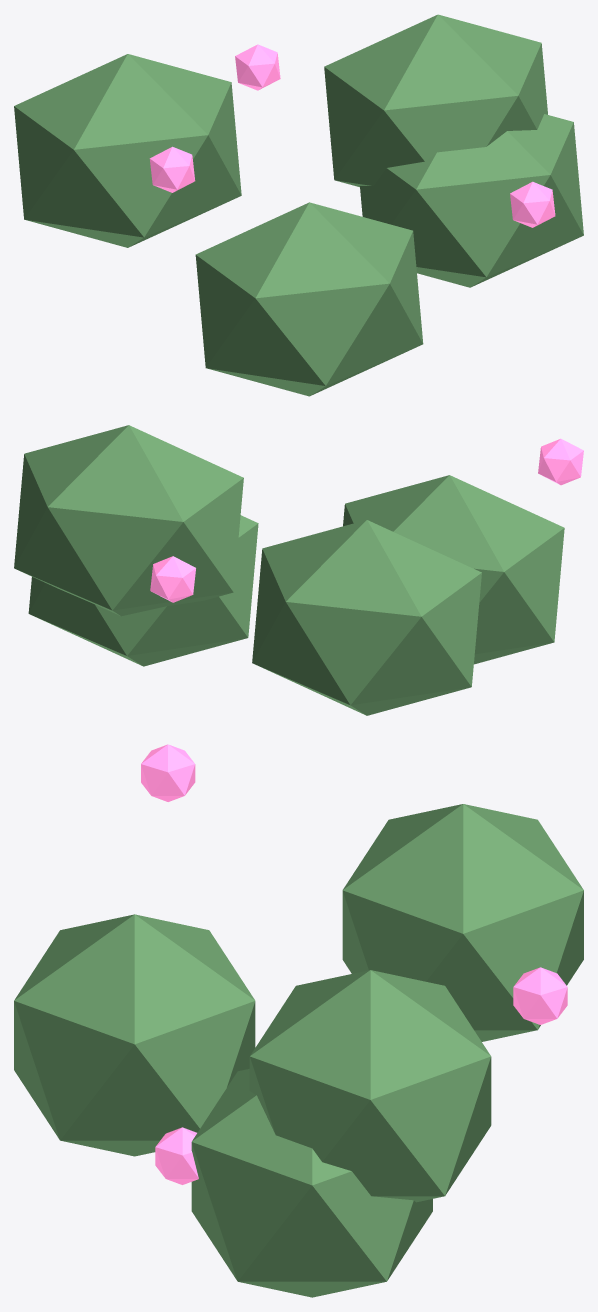
The model's file is greenmere_berry_thicket.lod1.glb.
The picture shows the model from 3 angles, top to bottom: view 1: azimuth 30°, elevation 25°; view 2: azimuth 150°, elevation 25°; view 3: azimuth 270°, elevation 25°; orthographic projection. The views are drawn at different scales.
Bounding box in the file's own units: 1.43 × 0.757 × 1.16.
